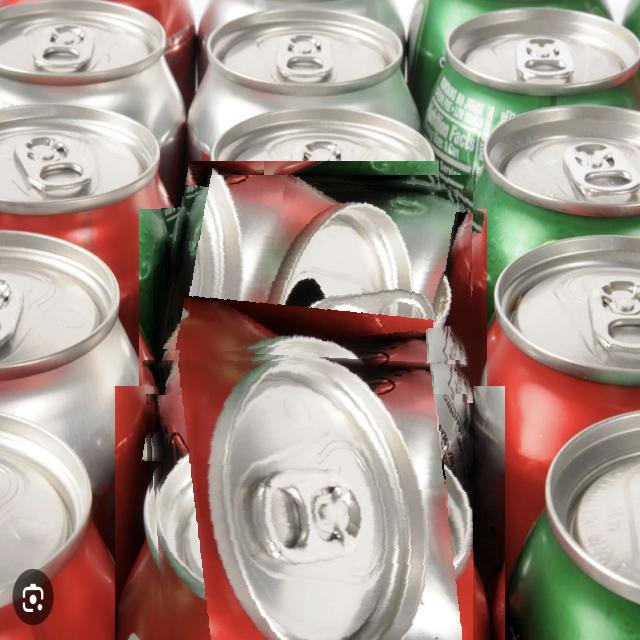recyclable: (153, 175, 474, 496), (145, 348, 473, 640)
